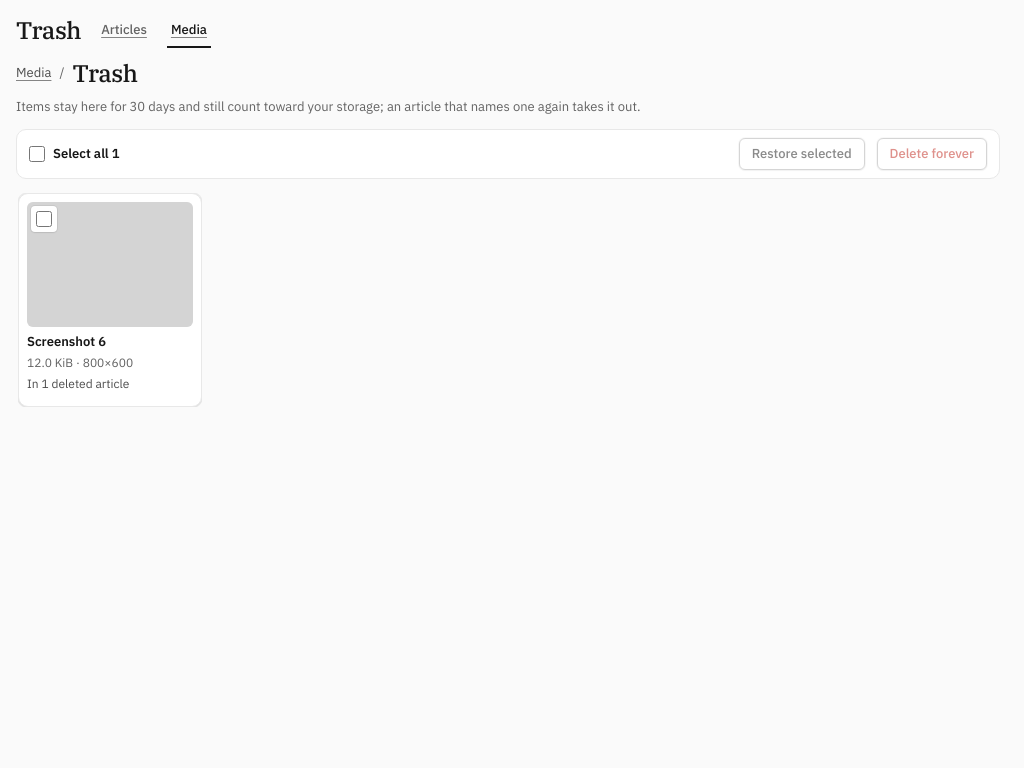
Test: only an admin deletes forever, after a second confirmation that names what goes
The image size is (1024, 768).
Step 1. Click the checkbox named "Select Screenshot 6" → coordinates (44, 219), box 36,211 -> 52,227
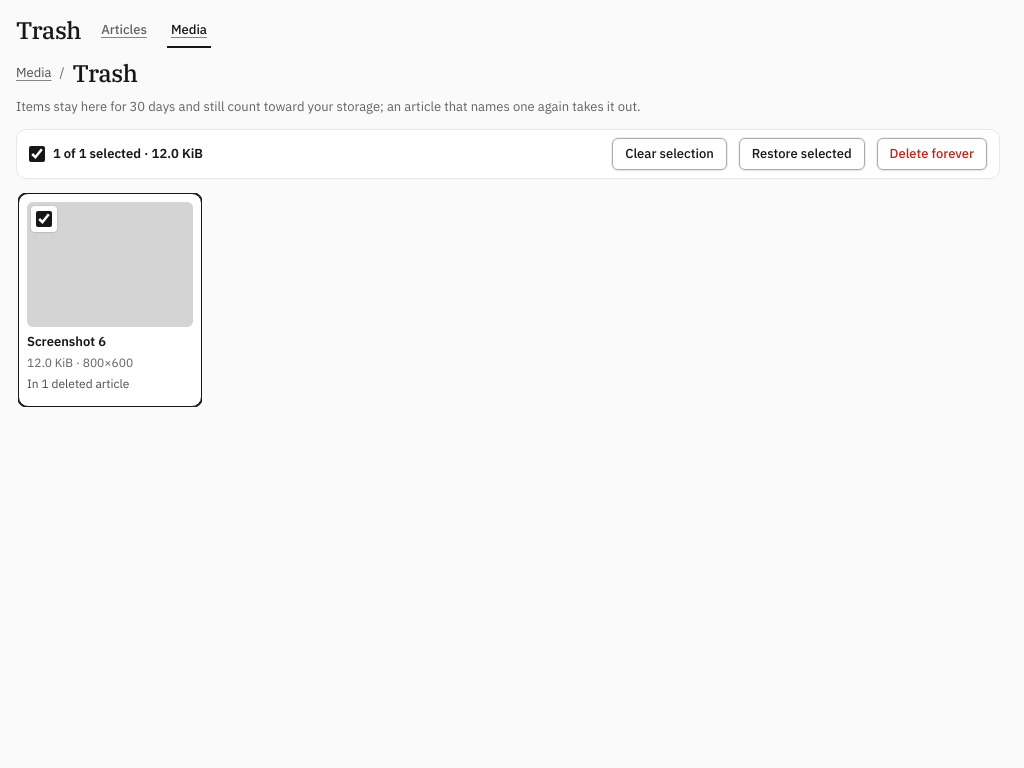
Step 2. Click the button "Delete forever" → coordinates (932, 154), box 877,138 -> 987,170
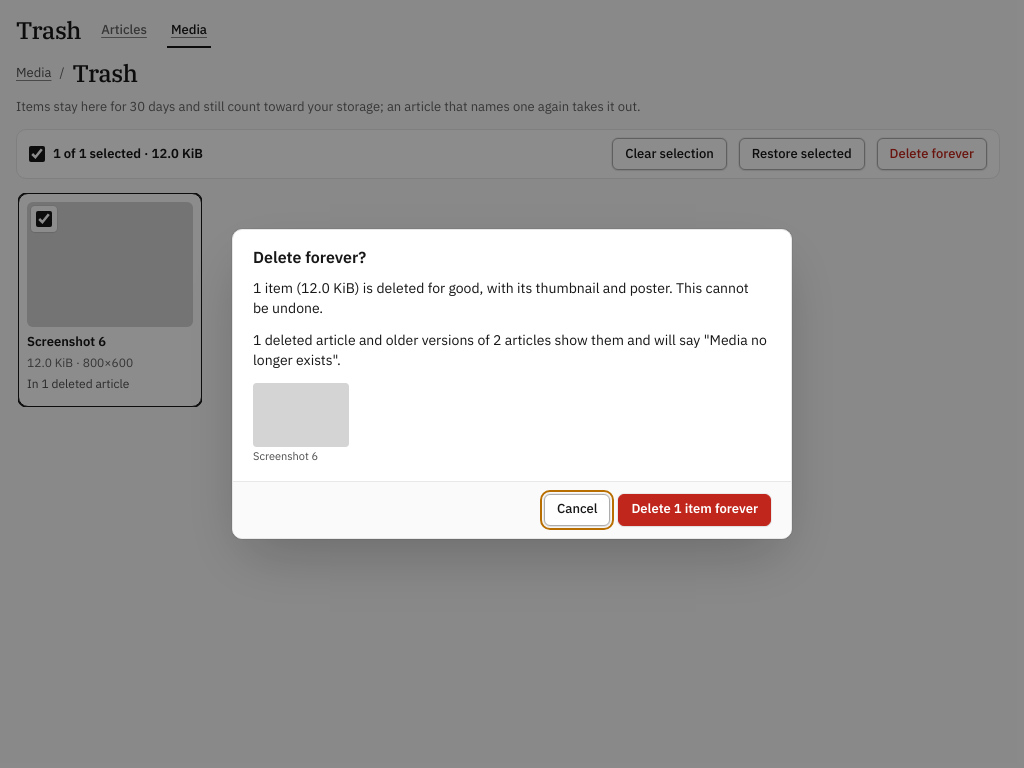
Check: the dialog "Delete forever?" shows "cannot be undone", box 253,278 -> 749,317
Check: the dialog "Delete forever?" shows "1 deleted article and older versions of 2 articles show them and will say \"Media no longer exists\".", box 253,331 -> 767,369
Step 3. Click the button "Delete 1 item forever" → coordinates (695, 510), box 618,494 -> 771,526
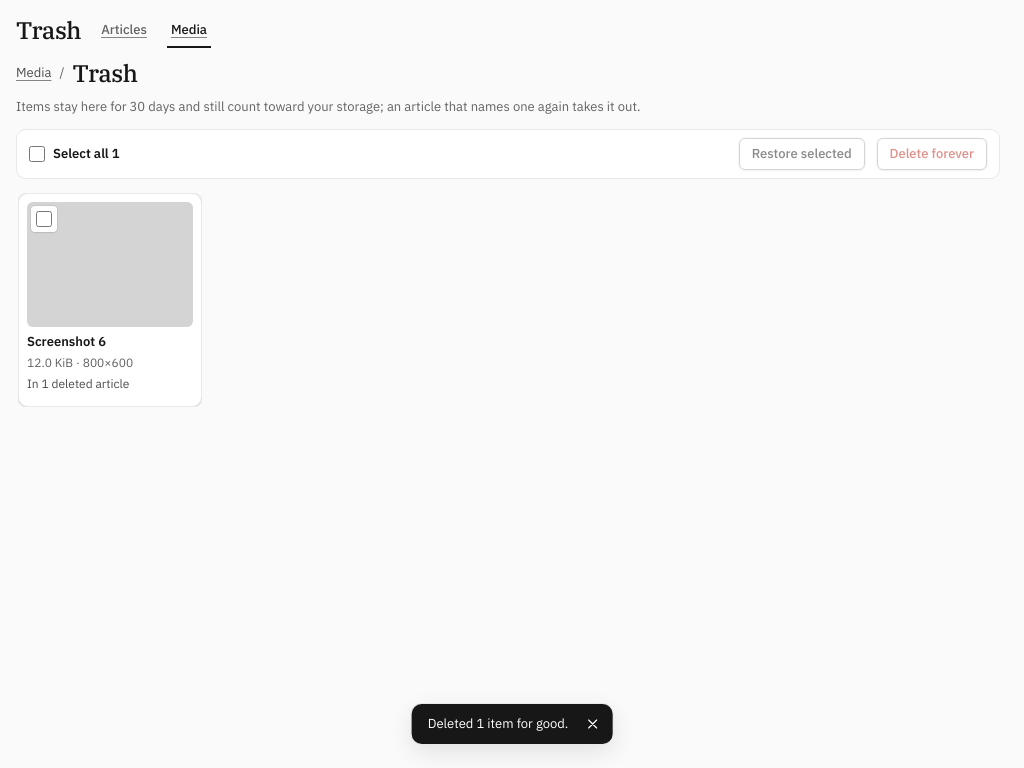
Check: the text "Deleted 1 item for good." is shown, box 428,715 -> 568,733
